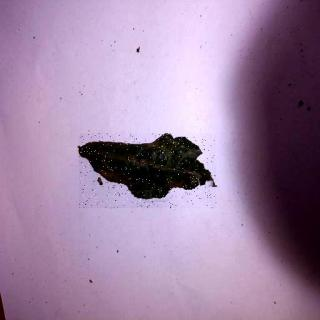Anthracnose: (80, 134, 217, 209)
